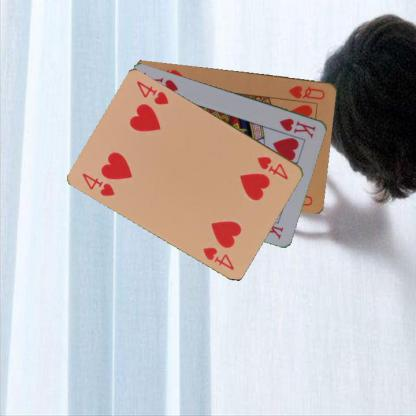4h: (255, 153, 290, 182), (80, 170, 116, 197)
Kh: (277, 115, 317, 140)
Qh: (286, 82, 326, 100)
